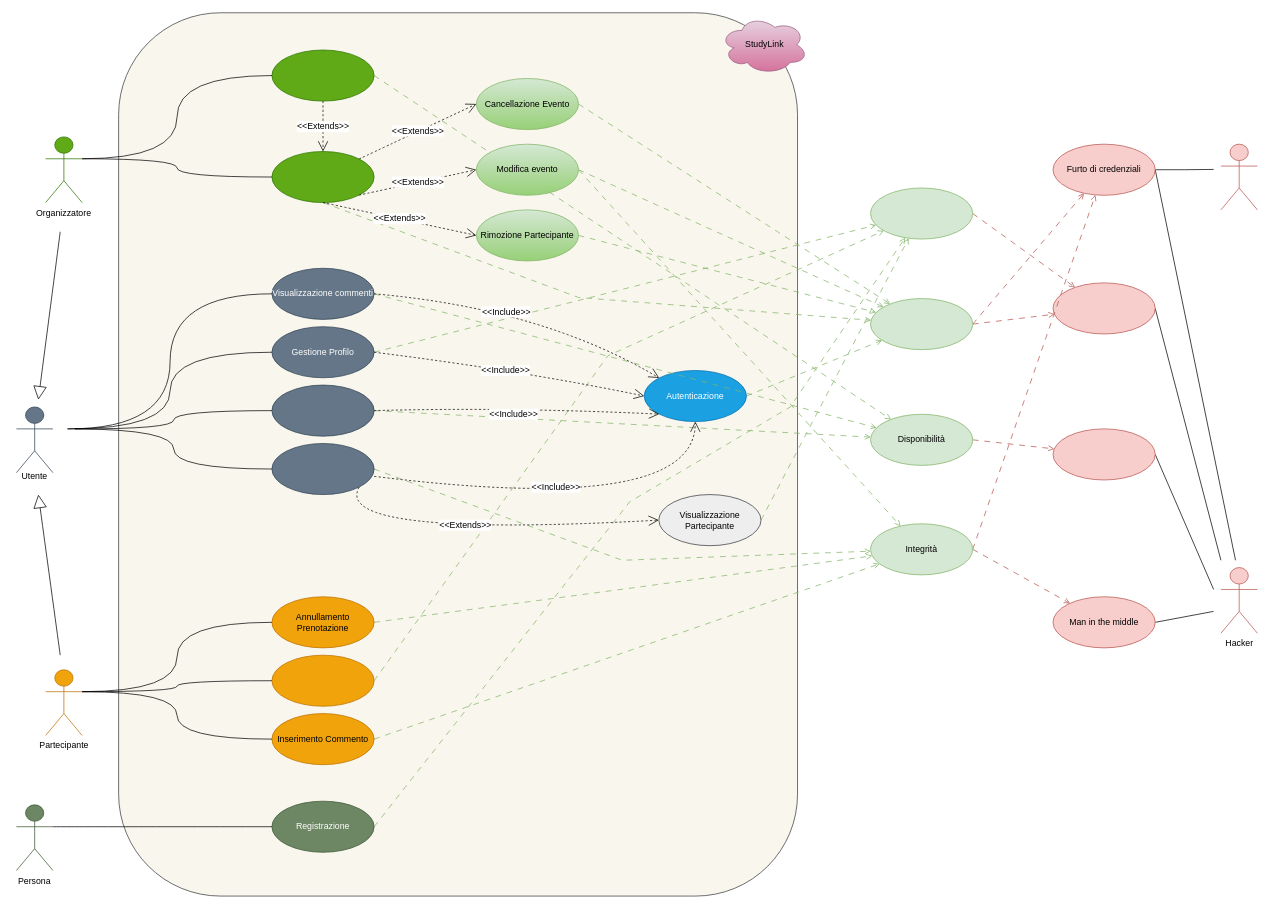
Some shapes in this 1270 by 916 pixel diagram are drawn without their labels. Each missing label, with the centre of its shape:
Confidenzialità: (x=921, y=213)
Controllo accesso: (x=921, y=324)
Creazione Evento: (x=322, y=75)
DoS: (x=1103, y=454)
Gestione Evento: (x=322, y=177)
Prenotazione Evento: (x=322, y=469)
Sniffing: (x=1103, y=308)
Truffatore: (x=1238, y=176)
Utilizzo Chat: (x=322, y=680)
Visualizzazione Bacheca: (x=322, y=410)
